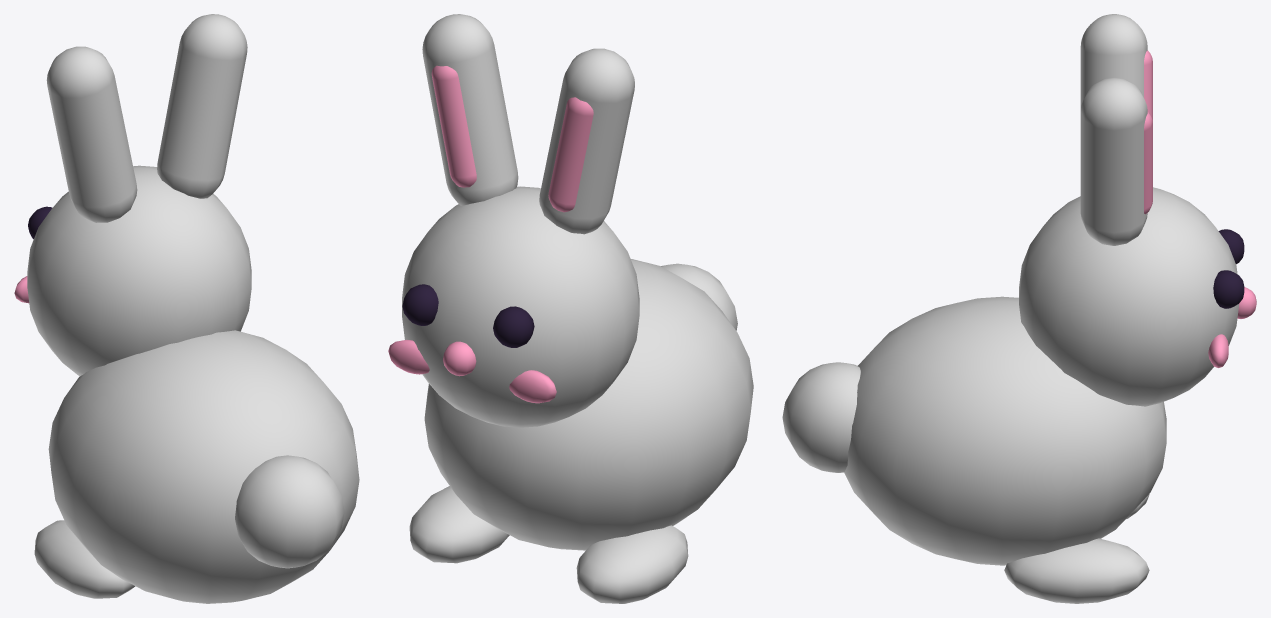
The model's file is bunny.glb.
3 views of the same model, side by side, from view 1: azimuth 30°, elevation 25°; view 2: azimuth 150°, elevation 25°; view 3: azimuth 270°, elevation 25° (orthographic). The views are drawn at different scales.
Parts seen in each view (by area): view 1: body, earR, earL; view 2: body, earR, earL; view 3: body, earR, earL.
Boxes of the visible parts, x1=… form: body: x1=14, y1=165, x2=359, y2=603; earR: x1=157, y1=14, x2=247, y2=198; earL: x1=46, y1=46, x2=137, y2=222; body: x1=388, y1=186, x2=753, y2=603; earR: x1=422, y1=14, x2=518, y2=205; earL: x1=539, y1=48, x2=634, y2=234; body: x1=782, y1=187, x2=1256, y2=603; earR: x1=1080, y1=77, x2=1152, y2=245; earL: x1=1080, y1=14, x2=1152, y2=121.
Size of the model in its own units: 0.4 by 0.7572 by 0.6359.
